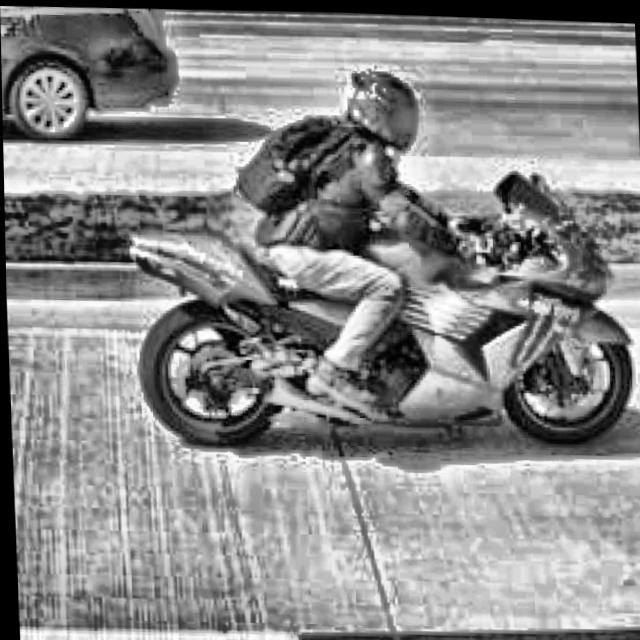motorcycle: (92, 162, 640, 462)
